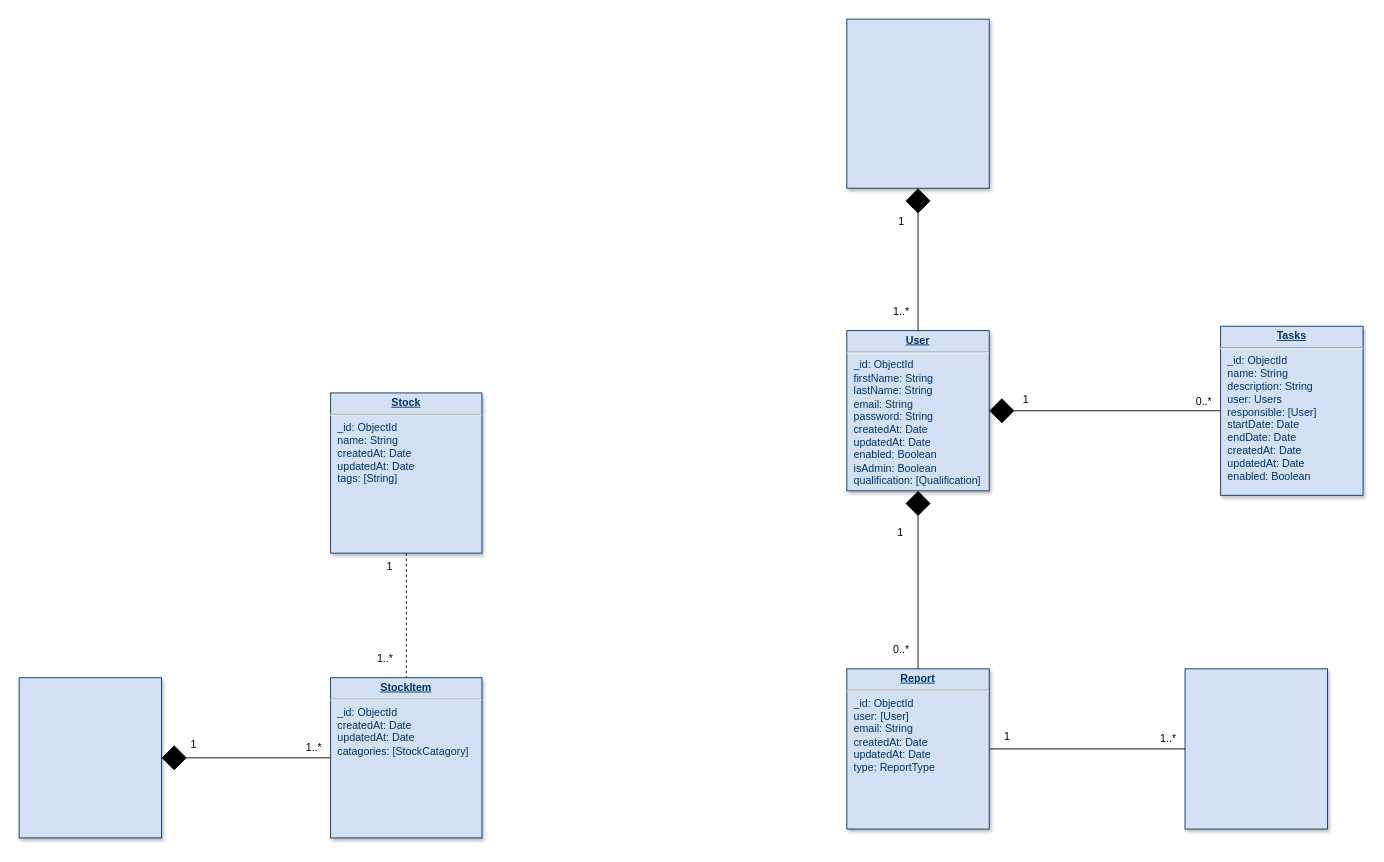
Some shapes in this 1384 by 862 pixel diagram are drawn without their labels. The shapes that lost their labels are listed below. From the top down, each one's centre as x and y in pixels, then its label:
At (918,104): "Qualification _id: ObjectId title: String description: String enabled: Boolean".
At (91,758): "StockCatagory _id: ObjectId name: String createdAt: Date updatedAt: Date".
At (1257,749): "ReportType _id: ObjectId name: String description: String".
